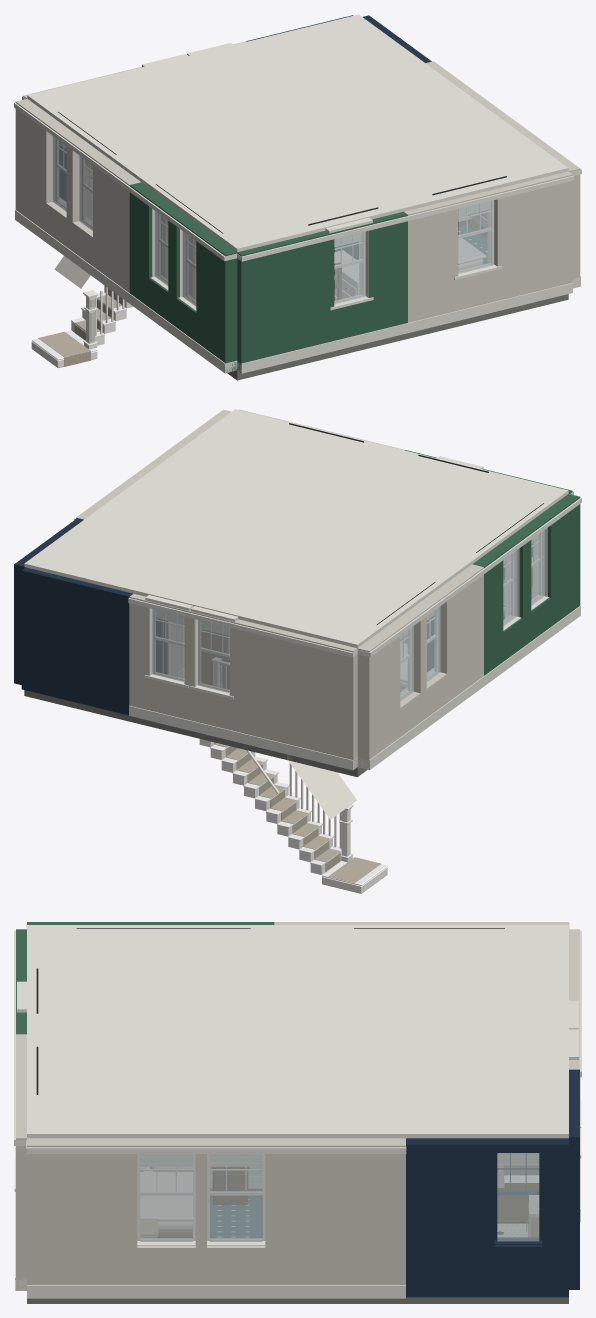
File: upstairs-existing.glb
The picture shows the model from 3 angles, top to bottom: view 1: azimuth 30°, elevation 25°; view 2: azimuth 150°, elevation 25°; view 3: azimuth 270°, elevation 25°; orthographic projection. The views are drawn at different scales.
Parts seen in each view (by area): view 1: Upstairs/Continuous upstairs ceiling.001, Upstairs/Office gable green.015, Upstairs/Office gable primary.018, Upstairs/Office gable green.010, Upstairs/Office gable primary.015, Upstairs/Office gable primary.013, Upstairs/Side bedroom sash 1 glass.001, Upstairs/Front green bedroom.024, Upstairs/Office gable green.018, Upstairs/Front guest.030, Upstairs/south floor substrate.001, Upstairs/Front guest.024 (+40 smaller); view 2: Upstairs/Continuous upstairs ceiling.001, Upstairs/Driveway gable.024, Upstairs/Bathroom north.003, Upstairs/Bathroom north.002, Upstairs/Driveway gable.016, Upstairs/Front guest.024, Upstairs/Front guest.030, Upstairs/Landing sash 1 glass.001, Upstairs/Driveway gable base.001, Upstairs/Landing sash 0 glass.001, Upstairs/Front green bedroom.024, Upstairs/Stairwell sloping soffit.001 (+31 smaller); view 3: Upstairs/Continuous upstairs ceiling.001, Upstairs/Rear primary.030, Upstairs/Rear primary.024, Upstairs/Rear bathroom.015, Upstairs/Rear primary.022, Upstairs/Rear sash 0 glass.001, Upstairs/Rear sash 1 glass.001, Upstairs/Rear primary base.001, Upstairs/Rear bathroom.010, Upstairs/Rear primary.016, Upstairs/Rear sash 2 glass.001, Upstairs/south floor substrate.001 (+28 smaller).
Boxes of the visible parts, box(x1,y1,x2,y2) form: Upstairs/Continuous upstairs ceiling.001: box(27, 14, 568, 252); Upstairs/Office gable green.015: box(237, 239, 334, 319); Upstairs/Office gable primary.018: box(494, 181, 572, 256); Upstairs/Office gable green.010: box(237, 308, 334, 372); Upstairs/Office gable primary.015: box(408, 209, 458, 278); Upstairs/Office gable primary.013: box(497, 249, 572, 300); Upstairs/Side bedroom sash 1 glass.001: box(458, 200, 494, 273); Upstairs/Front green bedroom.024: box(196, 241, 237, 318); Upstairs/Office gable green.018: box(368, 221, 407, 287); Upstairs/Front guest.030: box(15, 109, 54, 187); Upstairs/south floor substrate.001: box(227, 294, 568, 380); Upstairs/Front guest.024: box(93, 165, 129, 248); Upstairs/Continuous upstairs ceiling.001: box(24, 409, 568, 648); Upstairs/Driveway gable.024: box(229, 628, 357, 715); Upstairs/Bathroom north.003: box(21, 567, 132, 660); Upstairs/Bathroom north.002: box(21, 635, 129, 715); Upstairs/Driveway gable.016: box(229, 697, 357, 769); Upstairs/Front guest.024: box(438, 574, 483, 658); Upstairs/Front guest.030: box(357, 636, 400, 715); Upstairs/Landing sash 1 glass.001: box(152, 609, 183, 681); Upstairs/Driveway gable base.001: box(129, 707, 357, 770); Upstairs/Landing sash 0 glass.001: box(198, 620, 229, 692); Upstairs/Front green bedroom.024: box(547, 504, 580, 582); Upstairs/Stairwell sloping soffit.001: box(288, 760, 356, 819); Upstairs/Continuous upstairs ceiling.001: box(27, 925, 568, 1138); Upstairs/Rear primary.030: box(265, 1154, 405, 1228); Upstairs/Rear primary.024: box(27, 1154, 137, 1228); Upstairs/Rear bathroom.015: box(406, 1153, 494, 1227); Upstairs/Rear primary.022: box(265, 1248, 405, 1285); Upstairs/Rear sash 0 glass.001: box(210, 1154, 262, 1241); Upstairs/Rear sash 1 glass.001: box(140, 1154, 192, 1241); Upstairs/Rear primary base.001: box(27, 1287, 405, 1298); Upstairs/Rear bathroom.010: box(406, 1247, 494, 1297); Upstairs/Rear primary.016: box(27, 1248, 137, 1285); Upstairs/Rear sash 2 glass.001: box(497, 1153, 539, 1241); Upstairs/south floor substrate.001: box(27, 1297, 499, 1303).
Bounding box in the file's own units: 7.6 × 5.16 × 8.09.
